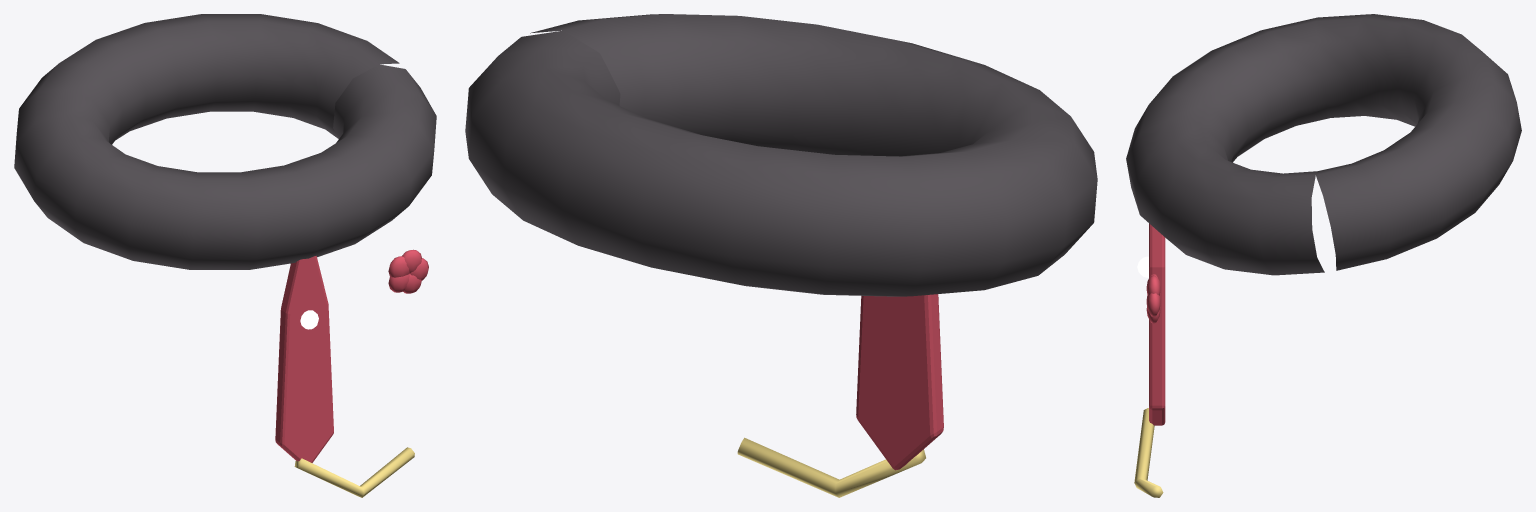
Rendered from boss_al_capone_torso.glb.
3 views of the same model, side by side, from view 1: azimuth 30°, elevation 25°; view 2: azimuth 150°, elevation 25°; view 3: azimuth 270°, elevation 25° (orthographic). The views are drawn at different scales.
Parts seen in each view (by area): view 1: CaponeFurCollar, CaponeTie, CaponeWatchChain; view 2: CaponeFurCollar, CaponeTie, CaponeWatchChain; view 3: CaponeFurCollar, CaponeTie, CaponeWatchChain.
Boxes of the visible parts, x1=… form: CaponeFurCollar: x1=14, y1=14, x2=436, y2=269; CaponeTie: x1=275, y1=256, x2=333, y2=462; CaponeWatchChain: x1=294, y1=447, x2=414, y2=497; CaponeFurCollar: x1=465, y1=14, x2=1097, y2=296; CaponeTie: x1=856, y1=294, x2=943, y2=470; CaponeWatchChain: x1=737, y1=437, x2=925, y2=497; CaponeFurCollar: x1=1126, y1=14, x2=1521, y2=275; CaponeTie: x1=1149, y1=223, x2=1165, y2=425; CaponeWatchChain: x1=1134, y1=408, x2=1163, y2=497.
Size of the model in its own units: 0.3929 by 0.3635 by 0.3369.
